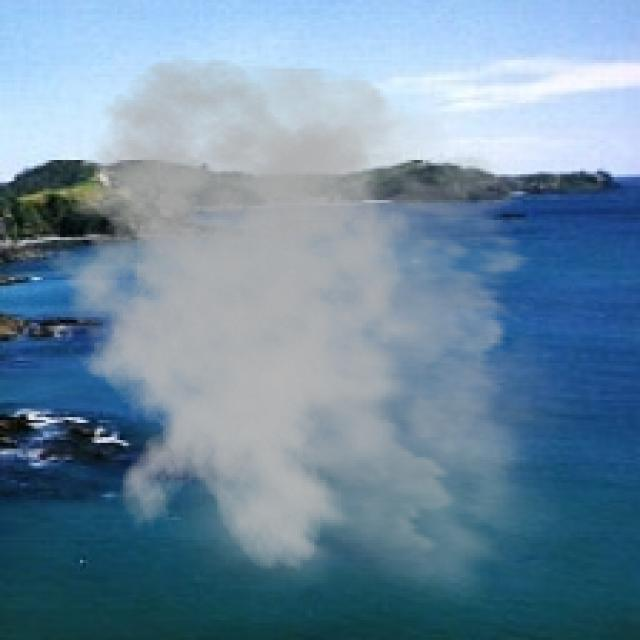smoke: (29, 54, 594, 623)
